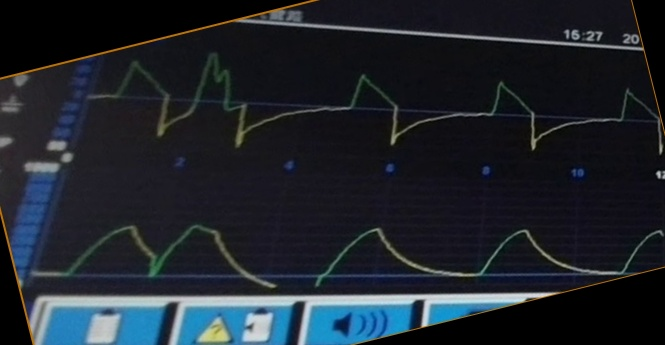Double_Triggering Flow: (90, 51, 642, 152)
Double_Triggering Volume: (33, 217, 646, 288)
